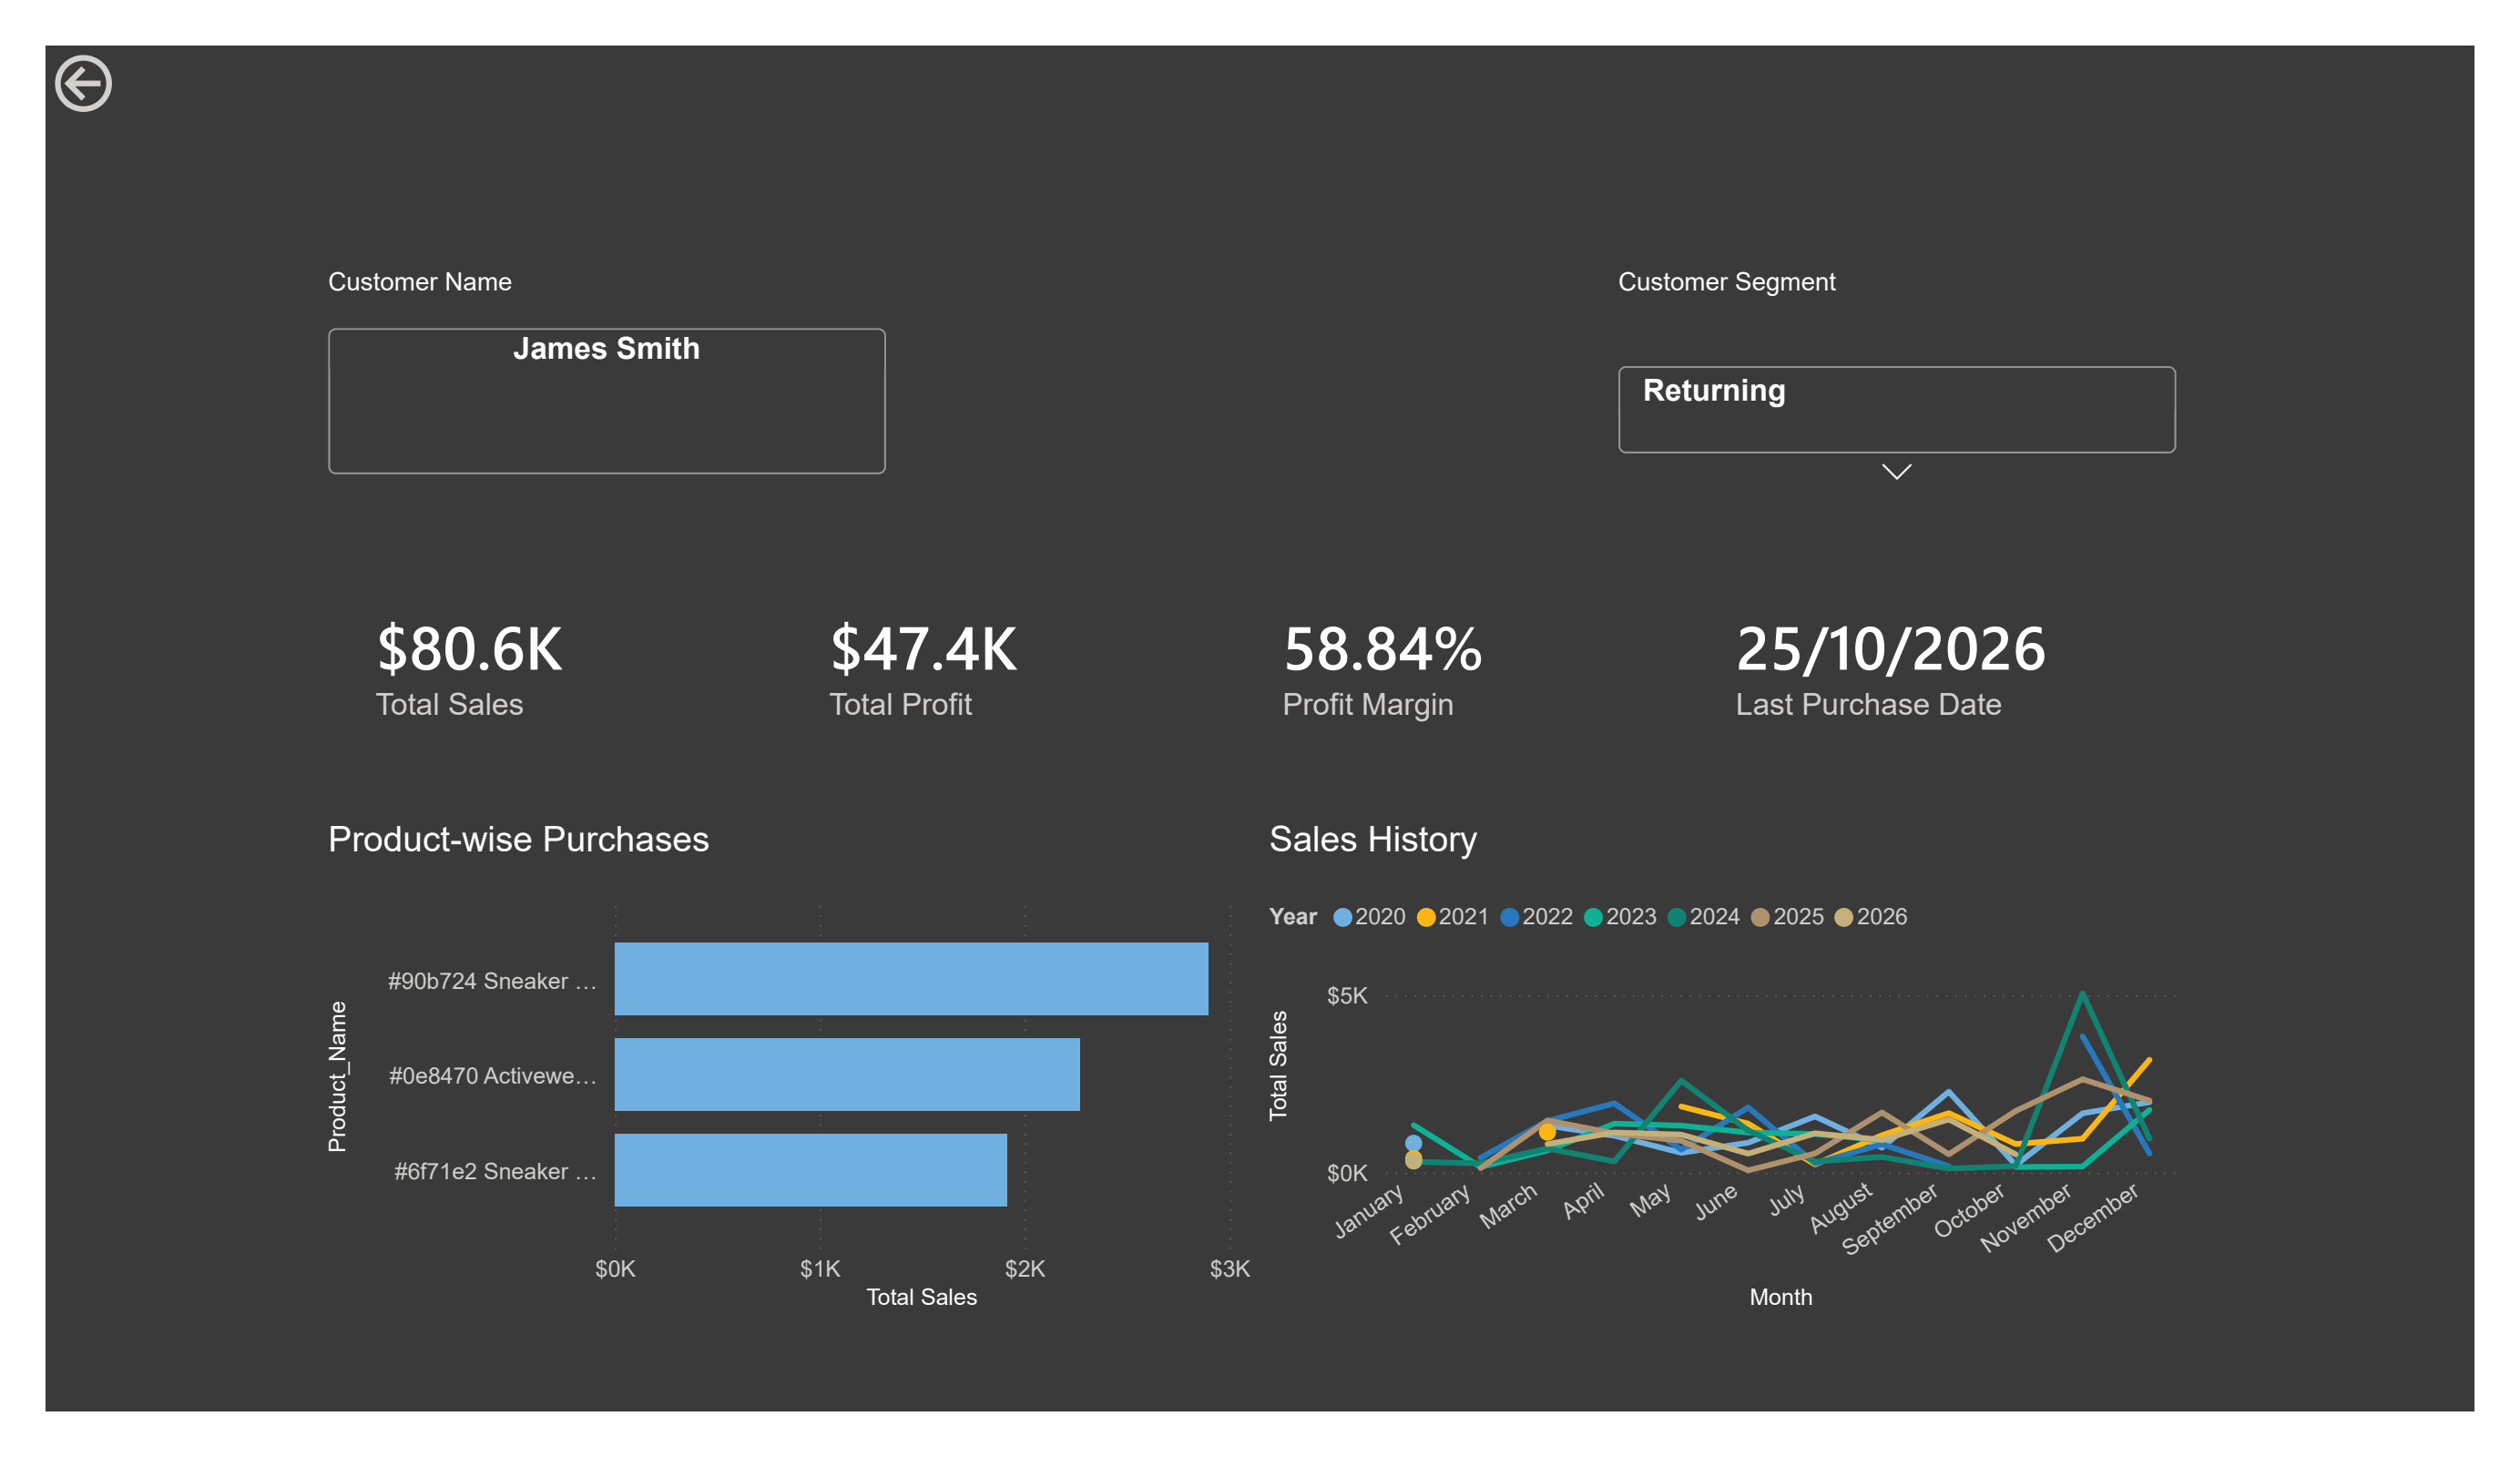

Layout of this report page (visuals, bound fields, positions):
{"tool":"powerbi","page":{"name":"3. Customer Drill-Through","canvas":[1280,720],"ordinal":3},"visuals":[{"type":"actionButton","box":[0,0,100,40],"z":0},{"type":"cardVisual","fields":{"Rows":["Dim_Customer.Customer_Name"]},"box":[144,144,304,96],"z":1000},{"type":"cardVisual","fields":{"Rows":["Dim_Customer.Customer_Segment"]},"box":[824,144,304,96],"z":2000},{"type":"cardVisual","fields":{"Data":["_Measures.Total Sales","_Measures.Total Profit","_Measures.Profit Margin","_Measures.Last Purchase Date"]},"box":[144,240,984,168],"z":3000},{"type":"clusteredBarChart","title":" Product-wise Purchases","fields":{"Category":["Dim_Product.Product_Name"],"Y":["_Measures.Total Sales"]},"box":[144,408,496,264],"z":4000},{"type":"lineChart","title":"Sales History","fields":{"Category":["Date_Table.Month"],"Y":["_Measures.Total Sales"],"Series":["Date_Table.Year"]},"box":[640,408,488,264],"z":5000},{"type":"textbox","box":[144,112,304,32],"z":6000},{"type":"textbox","box":[824,112,304,32],"z":7000}]}

Visuals, with their boxes on the page's 1280x720 design canvas (x1, y1, x2, y2). These are canvas units, not pixel positions in the 2520x1457 screenshot, which may show the page scaled, cropped or inside an application window:
actionButton: rect(0, 0, 100, 40)
cardVisual - Dim_Customer.Customer_Name: rect(144, 144, 448, 240)
cardVisual - Dim_Customer.Customer_Segment: rect(824, 144, 1128, 240)
cardVisual - _Measures.Total Sales x _Measures.Total Profit: rect(144, 240, 1128, 408)
" Product-wise Purchases" clusteredBarChart: rect(144, 408, 640, 672)
"Sales History" lineChart: rect(640, 408, 1128, 672)
textbox: rect(144, 112, 448, 144)
textbox: rect(824, 112, 1128, 144)
